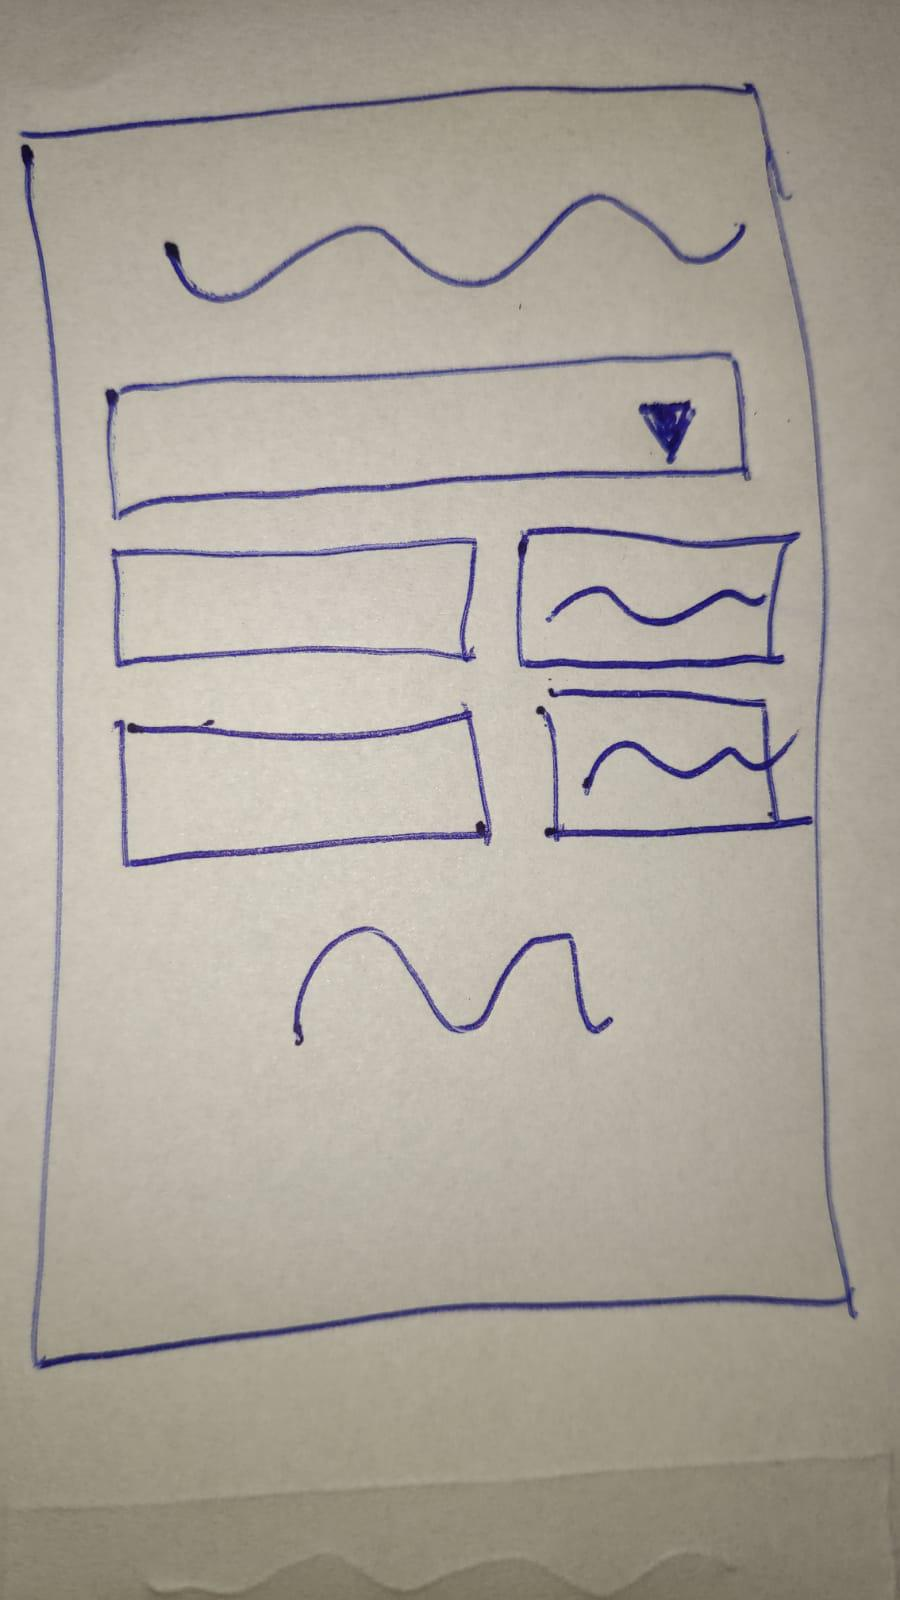Button: (516, 526, 799, 670), (542, 687, 780, 840)
Label: (167, 192, 747, 304), (291, 926, 612, 1046)
ListPicker: (107, 351, 749, 521)
Screen: (22, 82, 853, 1370)
TextBox: (118, 710, 490, 868), (112, 537, 479, 668)
